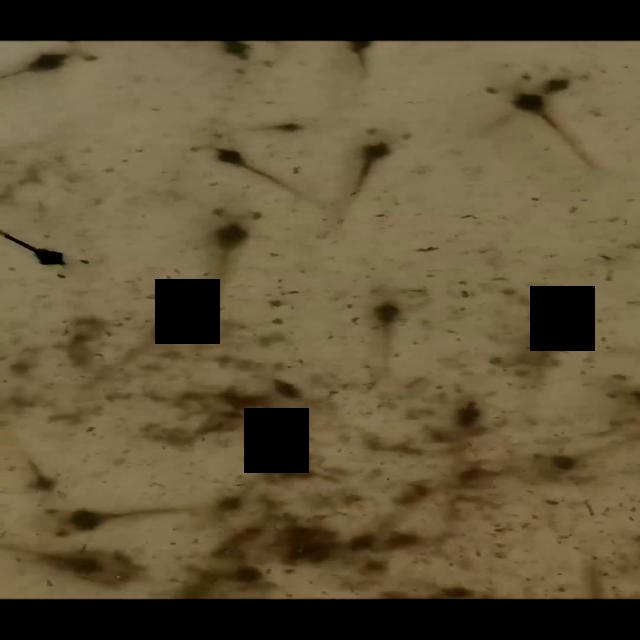shrimp: (311, 116, 429, 226), (477, 68, 598, 170), (175, 132, 334, 209), (78, 296, 209, 388), (187, 198, 278, 315), (487, 60, 594, 147), (354, 286, 435, 378), (36, 495, 193, 539), (507, 308, 580, 393), (0, 232, 103, 289), (0, 43, 105, 90), (5, 441, 80, 498)
